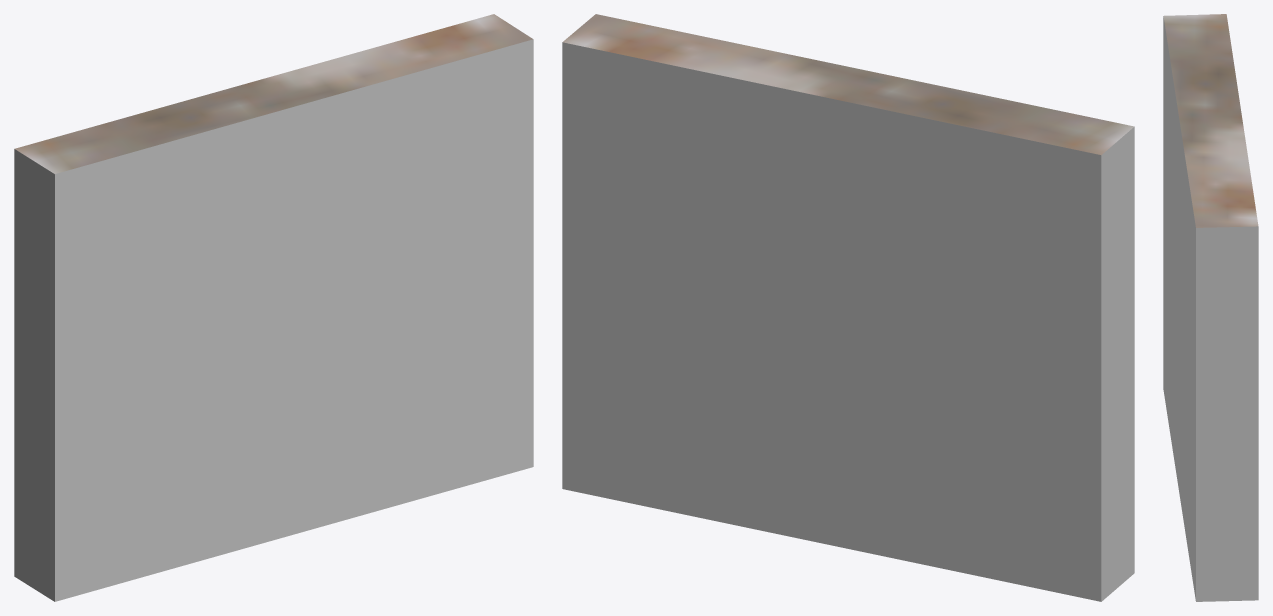
The model's file is DEBW_0010007THXf.gltf.
The picture shows the model from 3 angles, left to right: view 1: azimuth 30°, elevation 25°; view 2: azimuth 150°, elevation 25°; view 3: azimuth 270°, elevation 25°; orthographic projection. The views are drawn at different scales.
Parts seen in each view (by area): view 1: Z_UP; view 2: Z_UP; view 3: Z_UP.
Boxes of the visible parts, x1=… form: Z_UP: x1=14, y1=14, x2=533, y2=601; Z_UP: x1=562, y1=14, x2=1134, y2=601; Z_UP: x1=1163, y1=14, x2=1258, y2=601.
Bounding box in the file's own units: 8.1 × 6.6 × 1.52.
Materials: 2 (1 with a texture image).
